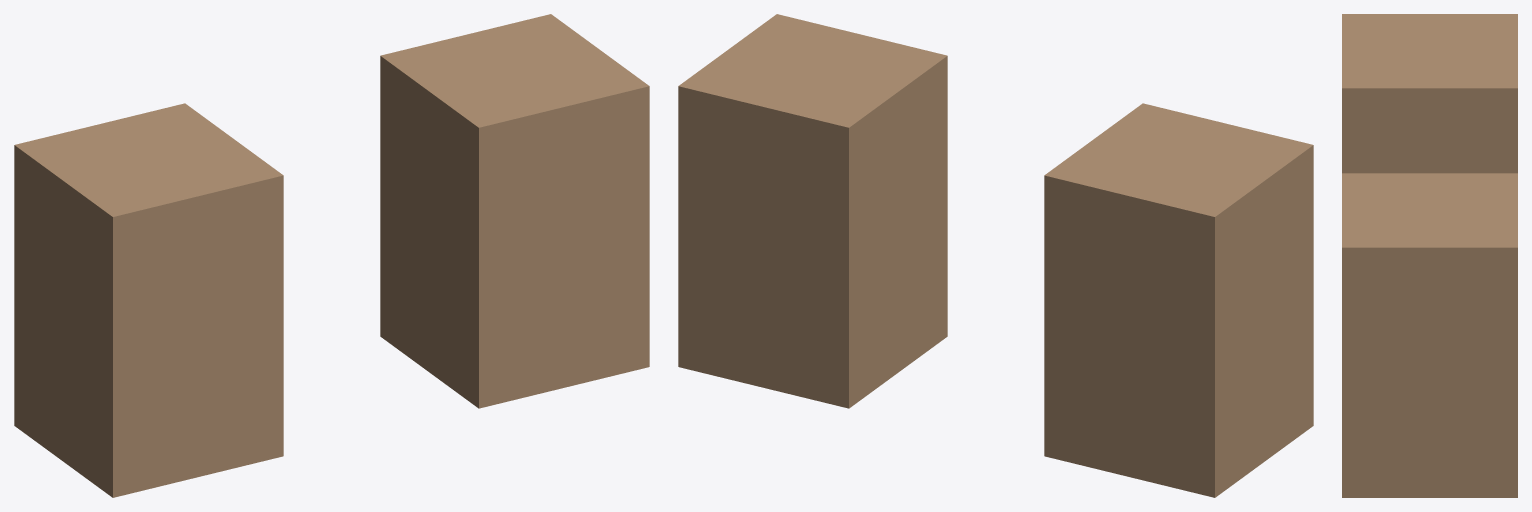
File: leather_gloves.glb
3 views of the same model, side by side, from view 1: azimuth 30°, elevation 25°; view 2: azimuth 150°, elevation 25°; view 3: azimuth 270°, elevation 25° (orthographic). The views are drawn at different scales.
Visible parts, largest first — view 1: leather_gloves; view 2: leather_gloves; view 3: leather_gloves.
Part boxes in pixels (bbox=[...]): leather_gloves: bbox=[14, 14, 649, 497]; leather_gloves: bbox=[678, 14, 1313, 497]; leather_gloves: bbox=[1342, 14, 1517, 497].
Size of the model in its own units: 0.44 by 0.22 by 0.14.
